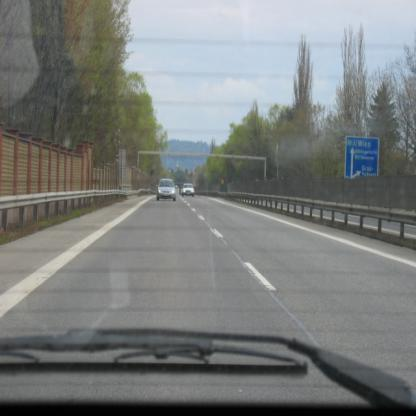car: (157, 180, 177, 203), (183, 185, 196, 197)
